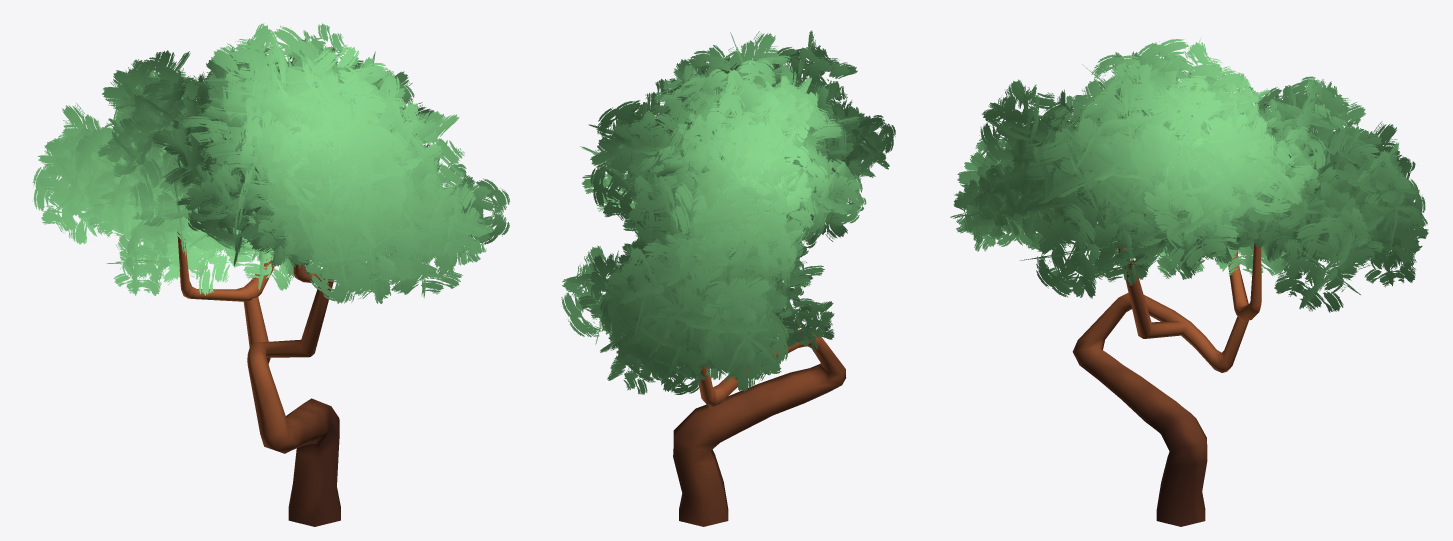
The model's file is STSwiggly2.glb.
The picture shows the model from 3 angles, left to right: view 1: azimuth 30°, elevation 25°; view 2: azimuth 150°, elevation 25°; view 3: azimuth 270°, elevation 25°; orthographic projection. The views are drawn at different scales.
Parts seen in each view (by area): view 1: Leaf.002; view 2: Leaf.002; view 3: Leaf.002.
Part boxes in pixels (x1=…): Leaf.002: x1=32, y1=23, x2=509, y2=526; Leaf.002: x1=561, y1=30, x2=895, y2=526; Leaf.002: x1=950, y1=38, x2=1428, y2=526.
Bounding box in the file's own units: 4.52 × 6.58 × 6.34.
Materials: 2 (2 with a texture image).
